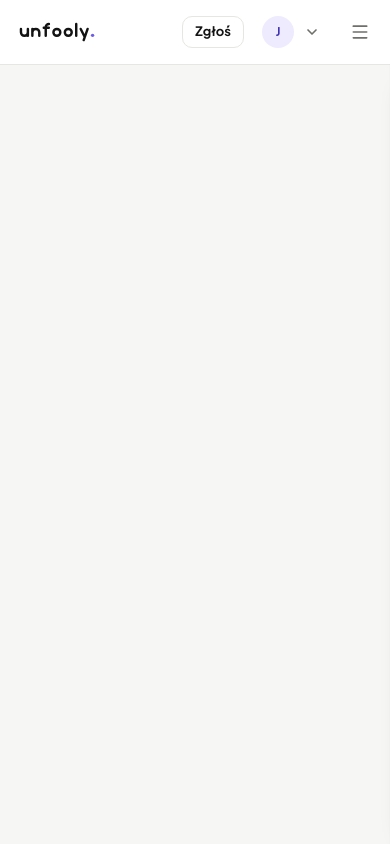
Scenario: Topbar › panel mobilny (hamburger) › hamburger renderuje się, aria-expanded=false, otwiera panel (aria-expanded=true, dialog przestaje być aria-hidden, ikona zmienia się na X/"Zamknij menu")
Click the button named "Otwórz menu" at (360, 32), box [338, 10, 382, 54]
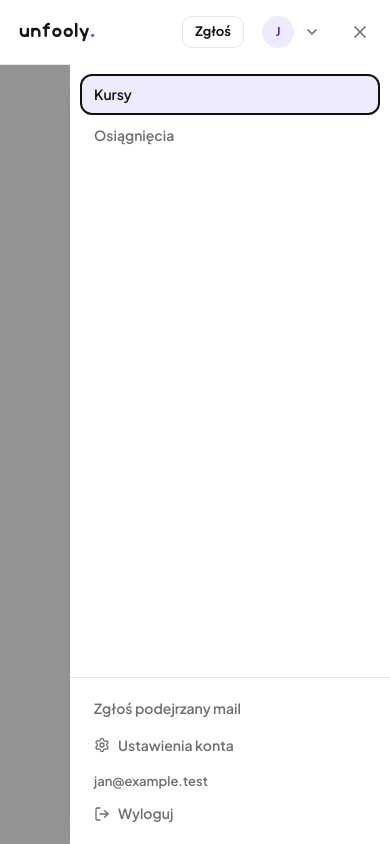
Check: the button named "Zamknij menu" is expanded, box [338, 10, 382, 54]
